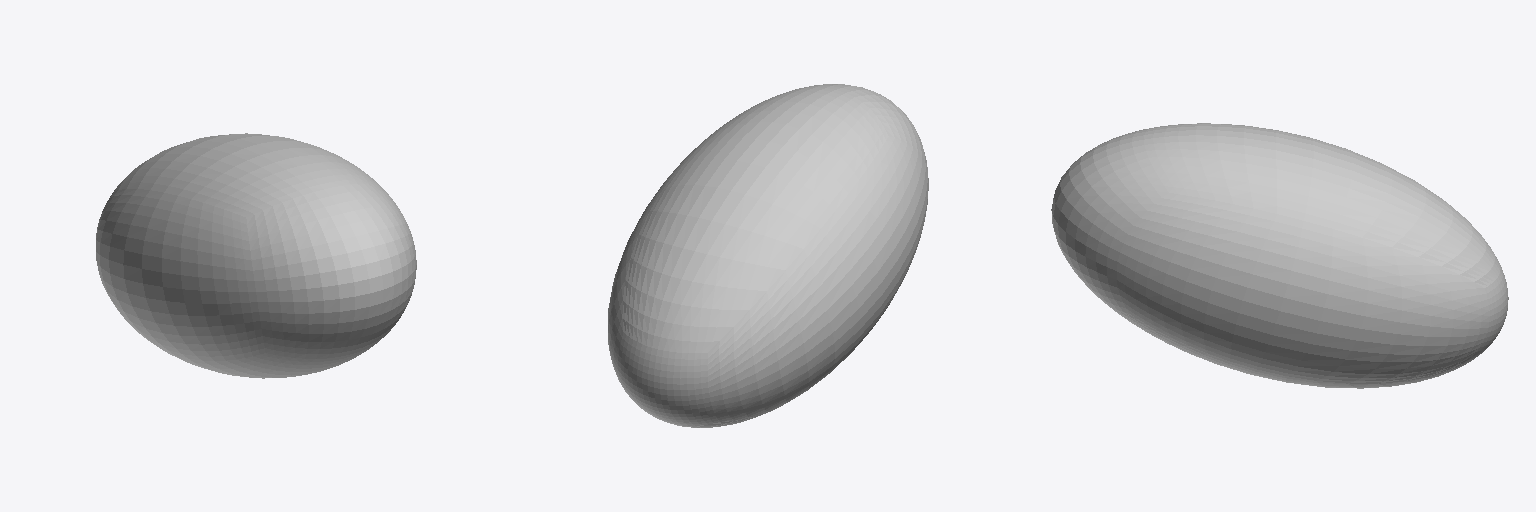
Rendered from Pata2.obj.
The picture shows the model from 3 angles: view 1: azimuth 30°, elevation 25°; view 2: azimuth 150°, elevation 25°; view 3: azimuth 270°, elevation 25°; orthographic projection.
Parts seen in each view (by area): view 1: Cube.001; view 2: Cube.001; view 3: Cube.001.
Part boxes in pixels (left/top/right/bottom): Cube.001: left=96, top=133, right=416, bottom=378; Cube.001: left=608, top=84, right=928, bottom=427; Cube.001: left=1051, top=123, right=1508, bottom=388.
Size of the model in its own units: 0.9073 by 0.9257 by 1.59.